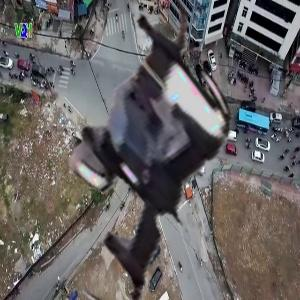drone: (4, 24, 281, 300)
